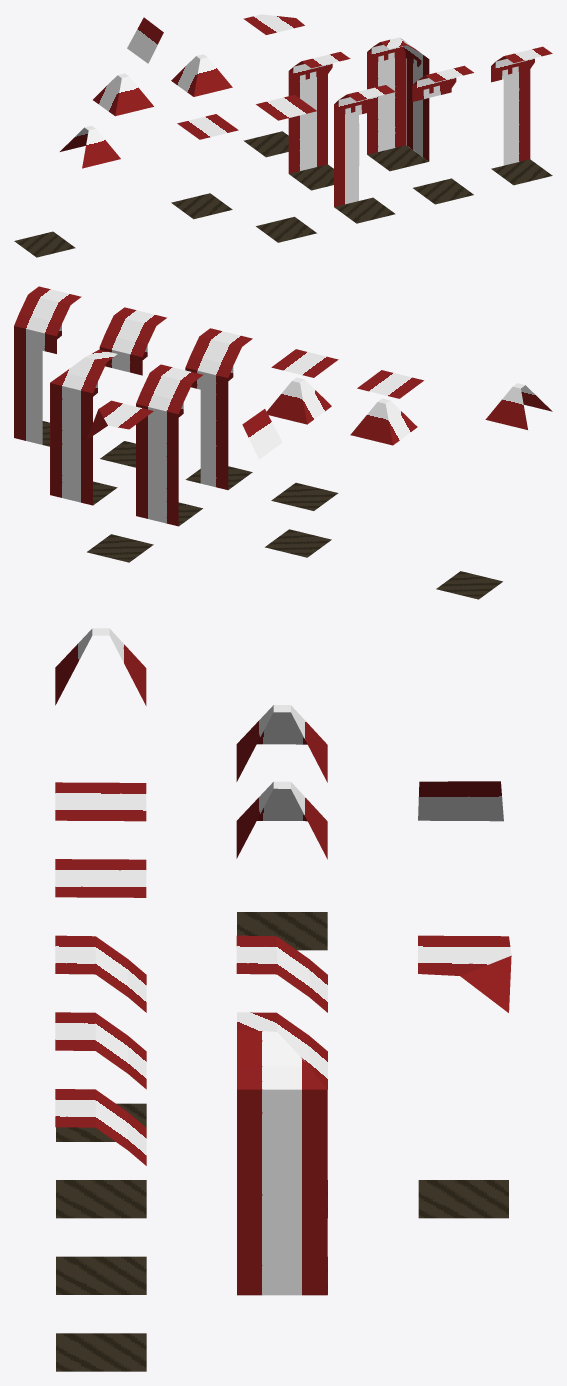
Rendered from SafeSideTileset.glb.
The picture shows the model from 3 angles, top to bottom: view 1: azimuth 30°, elevation 25°; view 2: azimuth 150°, elevation 25°; view 3: azimuth 270°, elevation 25°; orthographic projection. The views are drawn at different scales.
Visible parts, largest first — view 1: Corner_Piece-col, Wall-col, Doorway_Right-col, Doorway_Left-col, Pyramid_Floor-col, Doorway_Middle-col, Floor_Roof-col, CornerFillin-col, Pyramid_RoofLoose-col, Hollow_Pyramid_Roof-col., Roof_Slant-col, Floor_Loose-col (+1 smaller); view 2: Wall-col, Corner_Piece-col, Doorway_Left-col, Doorway_Right-col, Doorway_Middle-col, Pyramid_Floor-col, CornerFillin-col, Floor_Roof-col, Pyramid_RoofLoose-col, Hollow_Pyramid_Roof-col., Roof_Slant-col, Loose_FlatRoof-col (+1 smaller); view 3: Corner_Piece-col, CornerFillin-col, Doorway_Middle-col, Doorway_Left-col, Doorway_Right-col, Floor_Roof-col, Wall-col, Loose_FlatRoof-col, Roof_Slant-col, Pyramid_RoofLoose-col, Pyramid_Floor-col, Floor_Loose-col (+1 smaller).
Part boxes in pixels (<box>): Corner_Piece-col: <box>367,37,429,171</box>; Wall-col: <box>288,52,350,190</box>; Doorway_Right-col: <box>491,46,552,185</box>; Doorway_Left-col: <box>334,85,395,223</box>; Pyramid_Floor-col: <box>171,54,232,219</box>; Doorway_Middle-col: <box>412,65,473,204</box>; Floor_Roof-col: <box>256,94,316,242</box>; CornerFillin-col: <box>243,14,304,157</box>; Pyramid_RoofLoose-col: <box>93,73,153,116</box>; Hollow_Pyramid_Roof-col.: <box>60,125,120,168</box>; Roof_Slant-col: <box>127,17,163,63</box>; Floor_Loose-col: <box>14,231,75,257</box>; Wall-col: <box>136,364,203,526</box>; Corner_Piece-col: <box>50,349,117,505</box>; Doorway_Left-col: <box>185,328,252,489</box>; Doorway_Right-col: <box>14,286,81,446</box>; Doorway_Middle-col: <box>99,307,166,467</box>; Pyramid_Floor-col: <box>265,377,331,557</box>; CornerFillin-col: <box>86,400,153,562</box>; Floor_Roof-col: <box>271,349,338,510</box>; Pyramid_RoofLoose-col: <box>350,398,417,445</box>; Hollow_Pyramid_Roof-col.: <box>485,383,552,429</box>; Roof_Slant-col: <box>242,409,282,459</box>; Loose_FlatRoof-col: <box>357,370,423,398</box>; Corner_Piece-col: <box>237,1012,327,1295</box>; CornerFillin-col: <box>418,935,511,1218</box>; Doorway_Middle-col: <box>55,1012,146,1294</box>; Doorway_Left-col: <box>55,935,146,1218</box>; Doorway_Right-col: <box>55,1089,146,1371</box>; Floor_Roof-col: <box>55,859,146,1141</box>; Wall-col: <box>236,935,327,1217</box>; Loose_FlatRoof-col: <box>55,782,146,821</box>; Roof_Slant-col: <box>418,781,503,821</box>; Pyramid_RoofLoose-col: <box>236,705,327,782</box>; Pyramid_Floor-col: <box>236,781,327,1089</box>; Floor_Loose-col: <box>237,912,327,950</box>.
Bounding box in the file's own units: 12 × 3.65 × 5.03.
Materials: 1 (1 with a texture image).
